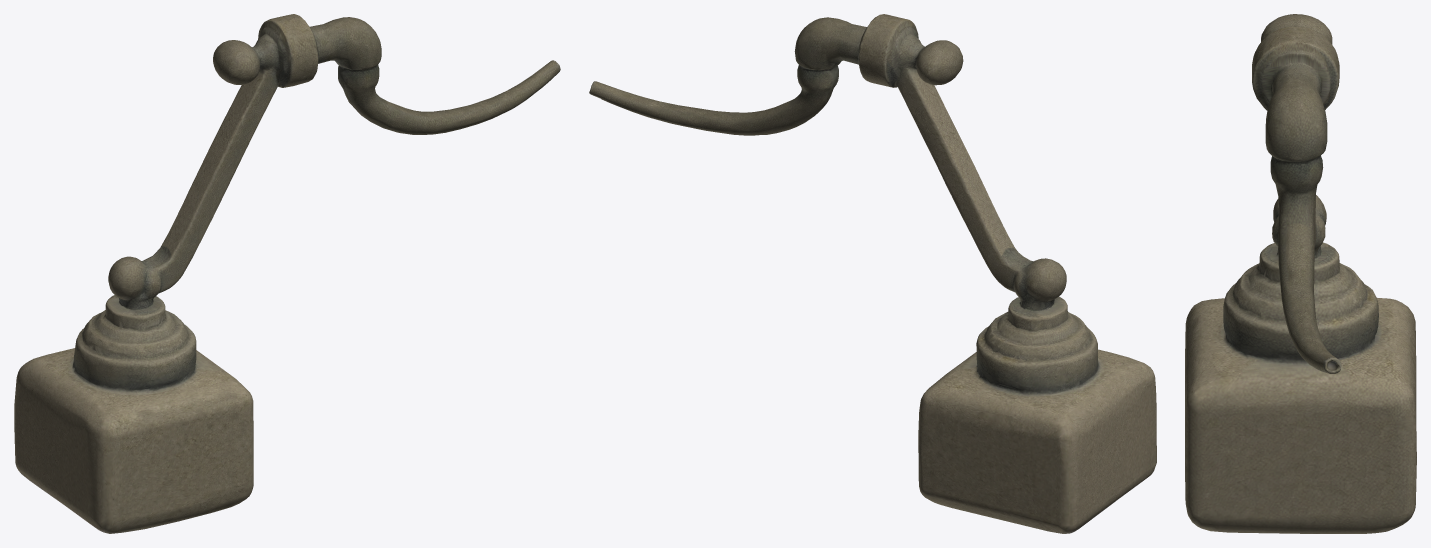
File: lever.glb
3 views of the same model, side by side, from view 1: azimuth 30°, elevation 25°; view 2: azimuth 150°, elevation 25°; view 3: azimuth 270°, elevation 25° (orthographic). The views are drawn at different scales.
Bounding box in the file's own units: 1.54 × 1.25 × 0.4749.
Materials: 1 (1 with a texture image).
